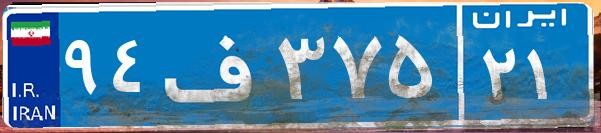1: (525, 38, 570, 115)
2: (475, 38, 525, 113)
3: (273, 28, 330, 110)
4: (110, 28, 158, 105)
5: (385, 28, 445, 110)
7: (330, 28, 385, 110)
9: (57, 26, 110, 107)
ف: (158, 15, 273, 115)
